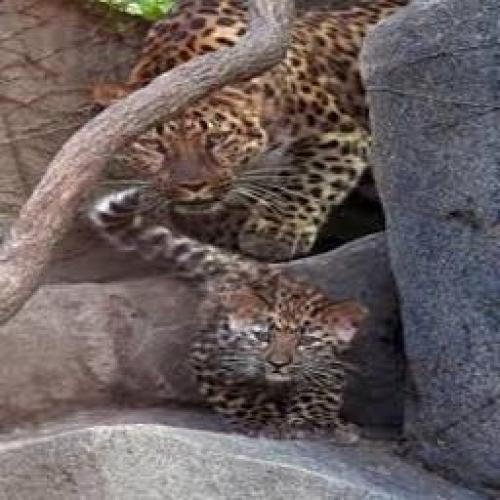amur_leopard-endangered: (88, 0, 411, 259), (95, 190, 371, 444)
